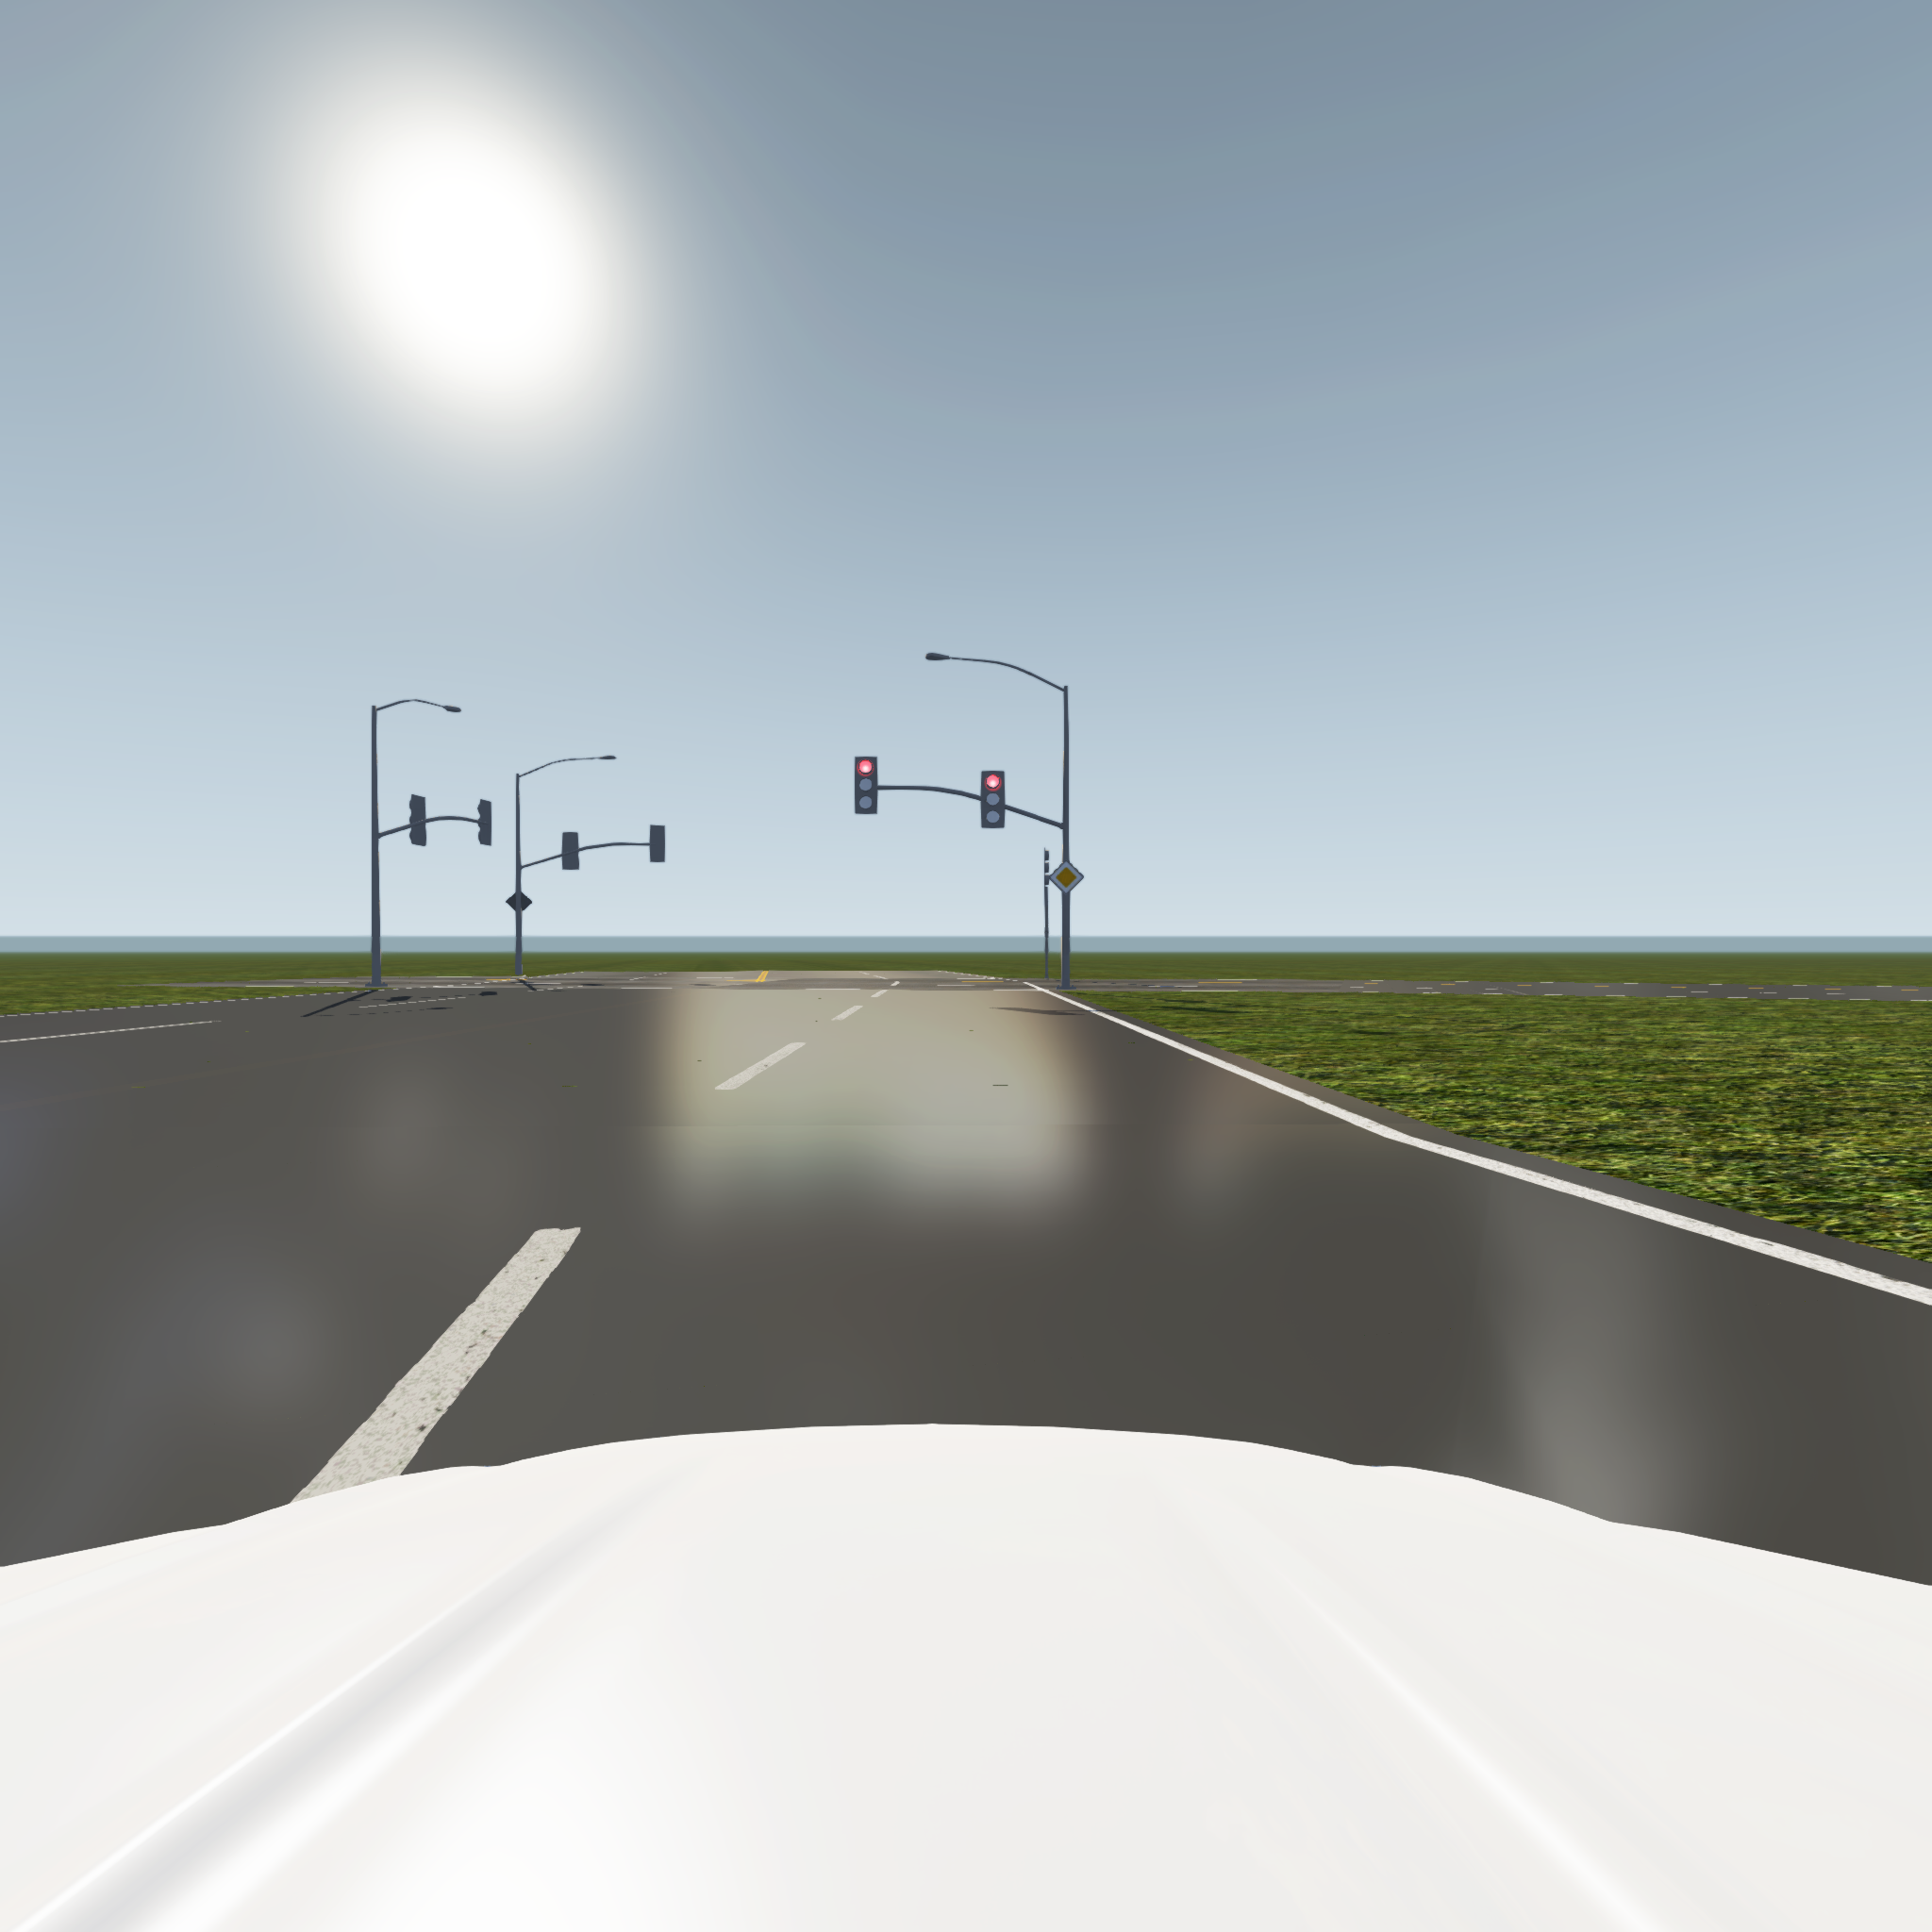red: (980, 771, 1003, 828), (855, 759, 878, 814)
